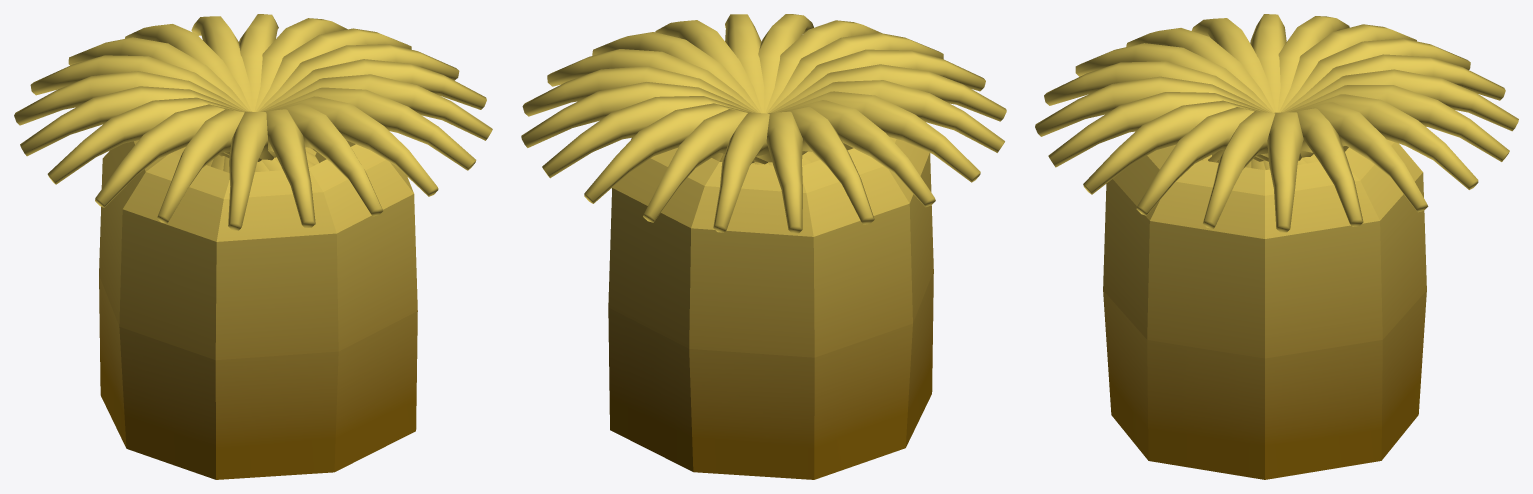
File: koraal2-sakura.fbx
3 renders of one model, left to right at view 1: azimuth 30°, elevation 25°; view 2: azimuth 150°, elevation 25°; view 3: azimuth 270°, elevation 25°, orthographic. The views are drawn at different scales.
Visible parts, largest first — view 1: Thingy_low.001; view 2: Thingy_low.001; view 3: Thingy_low.001.
Part boxes in pixels (x1,y1,x2,y2): Thingy_low.001: (14, 14, 492, 479); Thingy_low.001: (521, 14, 1006, 479); Thingy_low.001: (1035, 14, 1518, 479).
Bounding box in the file's own units: 43.46 × 34.26 × 43.46.
